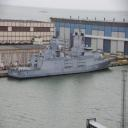Fragata: (7, 18, 117, 82)
